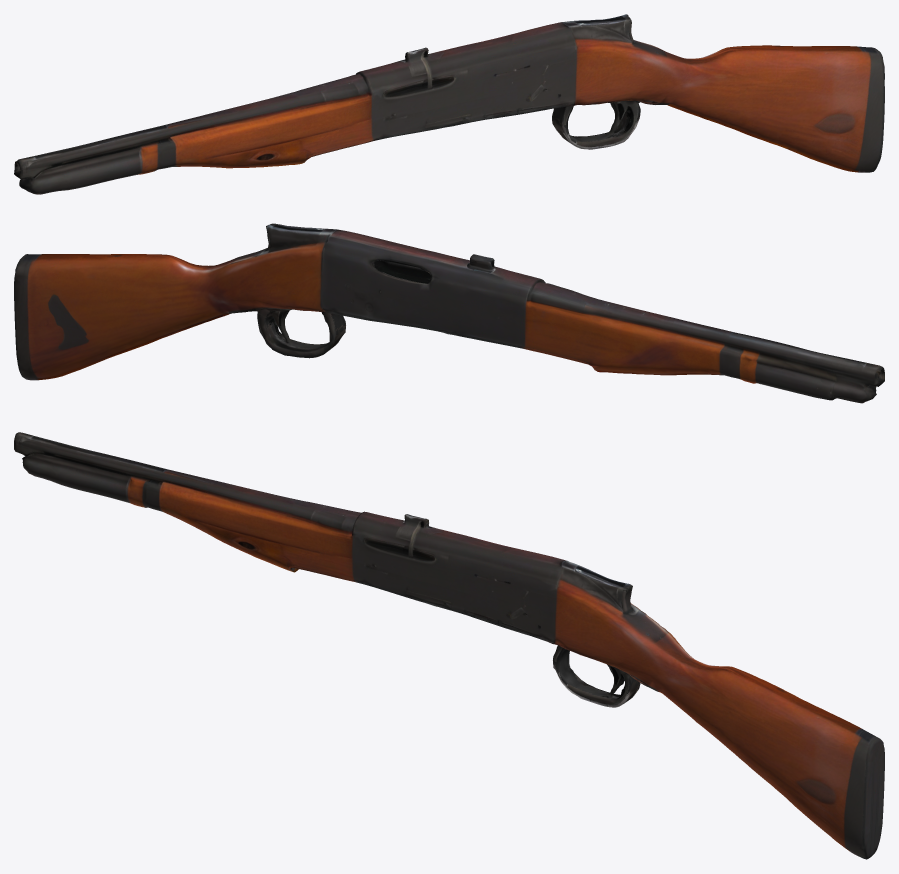
The model's file is Shotgun_0701130516_texture.glb.
3 renders of one model, top to bottom at view 1: azimuth 30°, elevation 25°; view 2: azimuth 150°, elevation 25°; view 3: azimuth 330°, elevation 25°, orthographic.
Size of the model in its own units: 2 by 0.5177 by 0.0804.
Materials: 1 (1 with a texture image).
